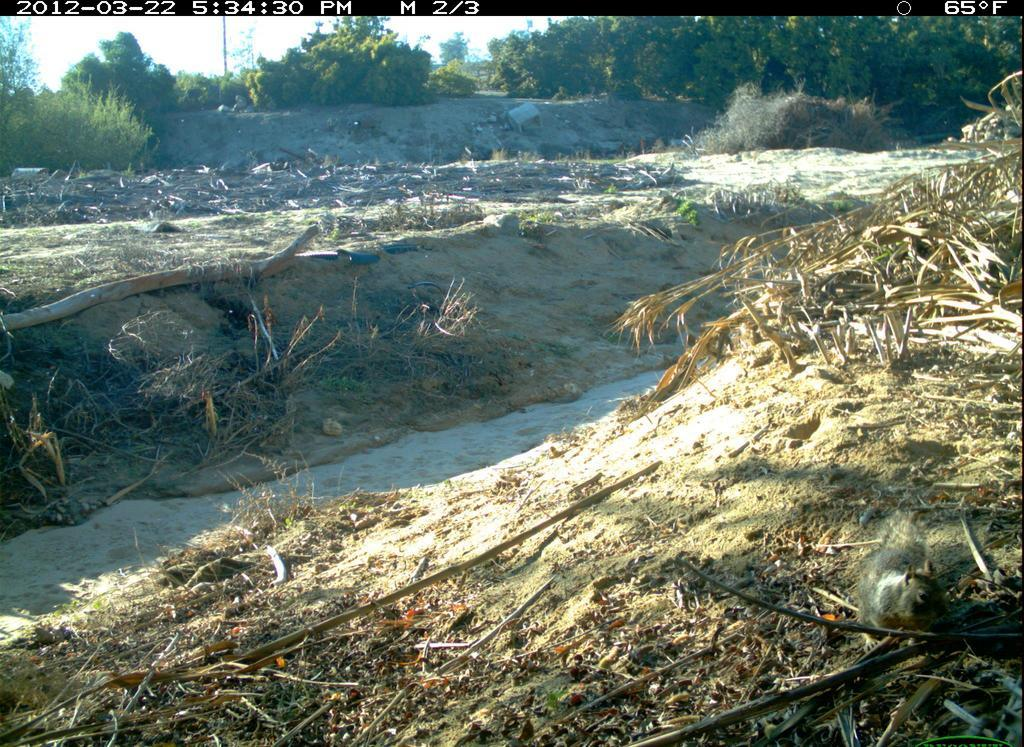squirrel: (848, 507, 954, 675)
